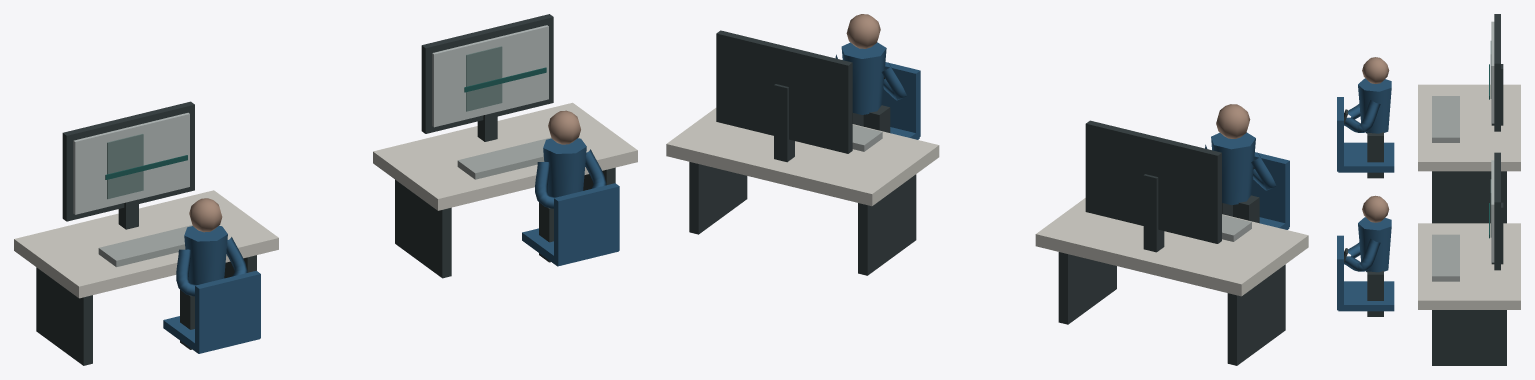
Rendered from coordinator-v2.glb.
The picture shows the model from 3 angles, left to right: view 1: azimuth 30°, elevation 25°; view 2: azimuth 150°, elevation 25°; view 3: azimuth 270°, elevation 25°; orthographic projection. The views are drawn at different scales.
Visible parts, largest first — view 1: IntegratedServiceReviewDesks; view 2: IntegratedServiceReviewDesks; view 3: IntegratedServiceReviewDesks.
Boxes of the visible parts, x1,y1,x2,y2 form: IntegratedServiceReviewDesks: (14, 14, 637, 365); IntegratedServiceReviewDesks: (666, 14, 1308, 365); IntegratedServiceReviewDesks: (1337, 14, 1520, 365).
Size of the model in its own units: 1.09 by 0.365 by 0.3925.
